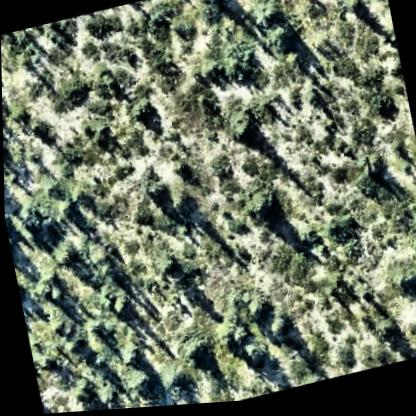tree-top: (238, 186, 283, 230), (221, 114, 261, 150), (114, 368, 153, 404), (210, 320, 247, 356), (262, 23, 297, 61), (363, 317, 402, 351), (178, 335, 209, 370), (101, 288, 131, 324), (139, 171, 168, 207), (260, 314, 290, 348), (389, 268, 416, 303), (164, 156, 195, 186), (154, 369, 184, 399), (129, 96, 157, 127), (49, 243, 77, 273), (156, 254, 184, 284), (362, 158, 389, 186), (241, 297, 267, 326), (338, 0, 363, 24), (89, 385, 113, 409), (201, 0, 225, 9)
